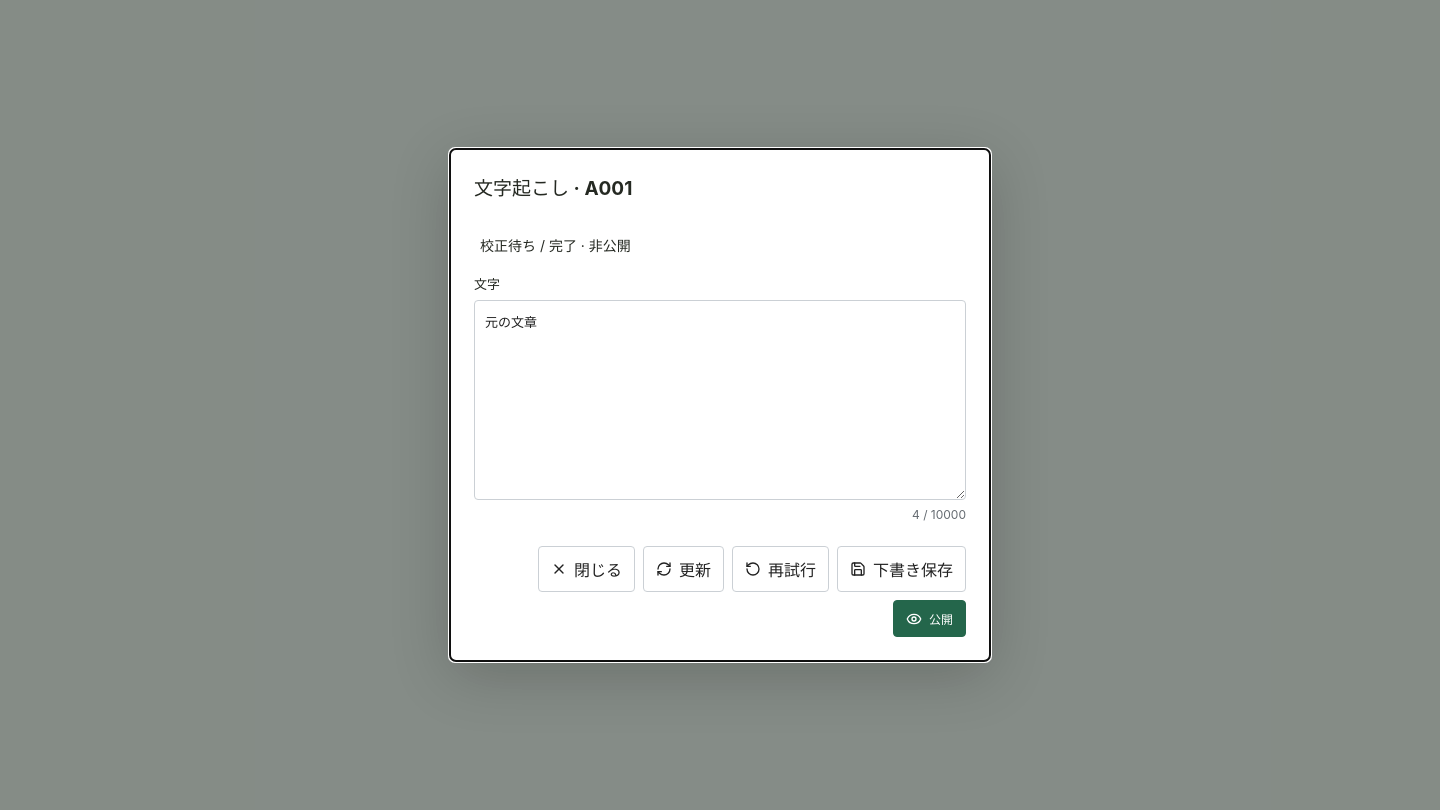
Test: explains that retained reference text cannot be republished during AI retry
Click the button "公開".
click(930, 619)  # box [893, 600, 966, 637]
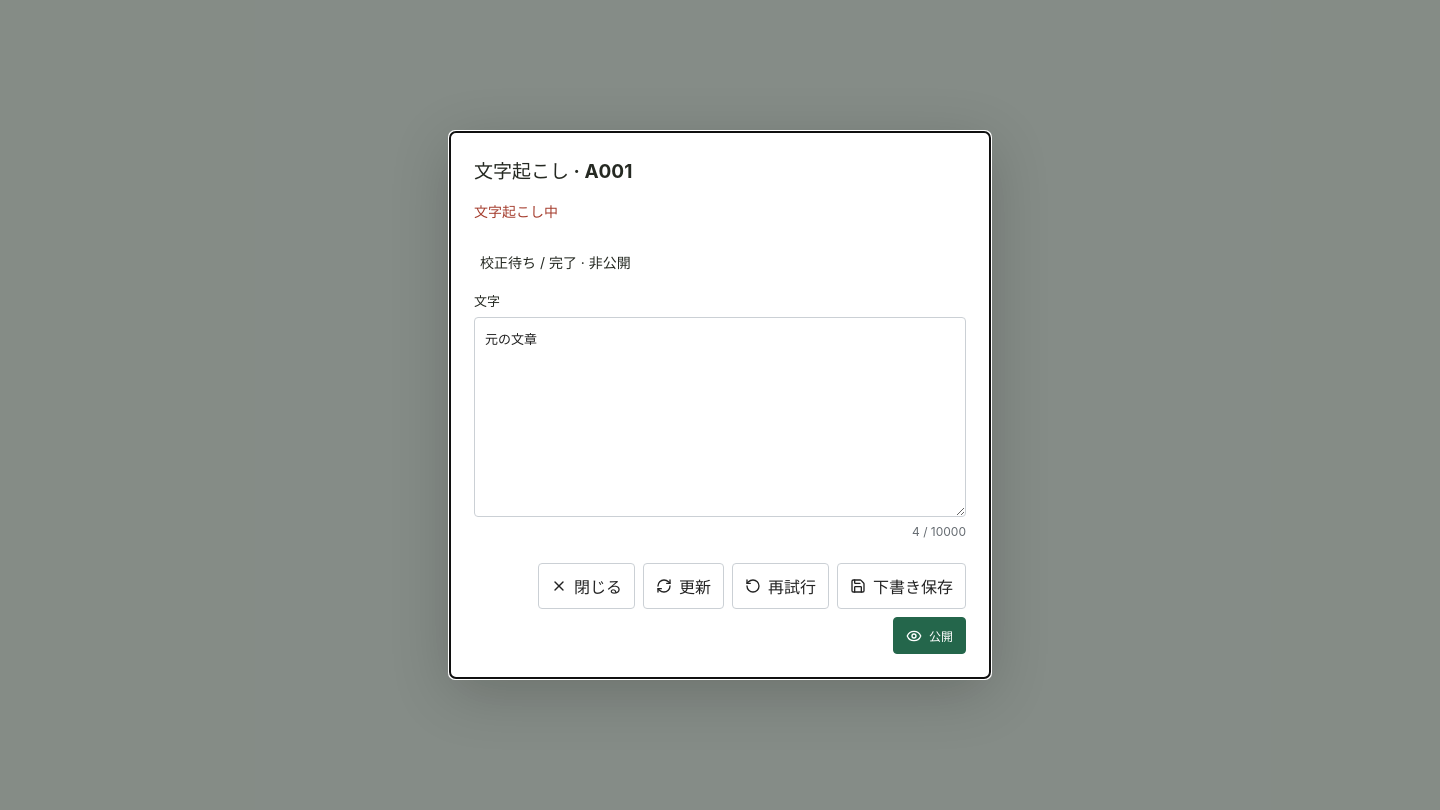
Expected: the text box labelled "文字" holds "元の文章", [474, 317, 966, 517]
Result: the message reads "文字起こし中" at [474, 203, 558, 220]
